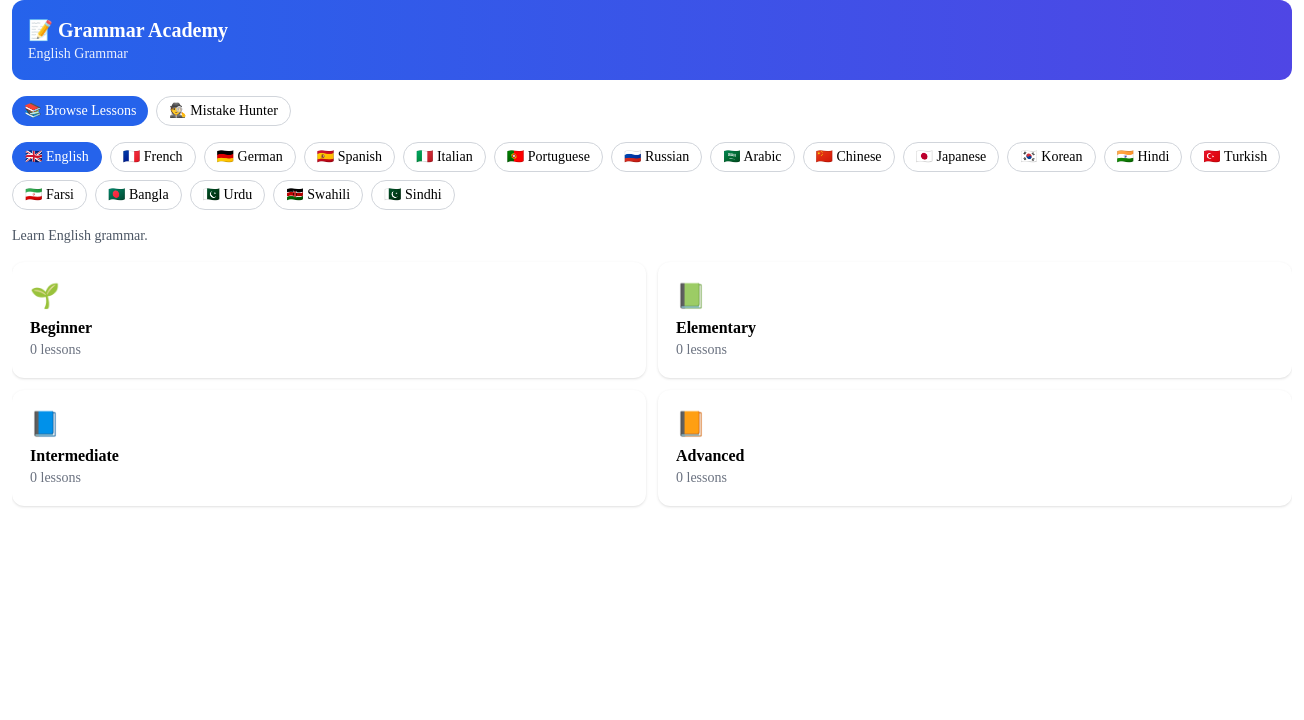
it: GrammarAcademy Mistake Hunter › switches into Mistake Hunter mode without waiting on the grammar curriculum fetch
Click the button "🕵️ Mistake Hunter". click: [224, 111]
box: 156,96 -> 291,126
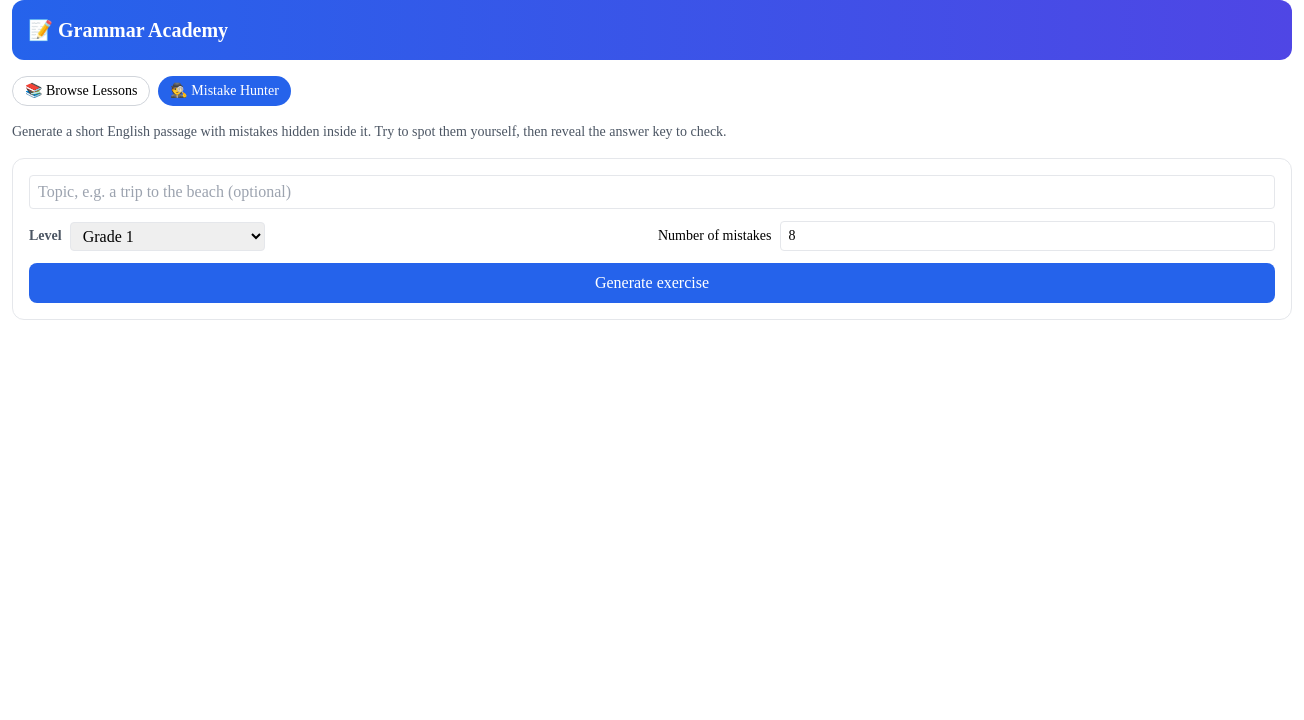
Expected: the button "Generate exercise" is shown, 29,263 -> 1275,303
